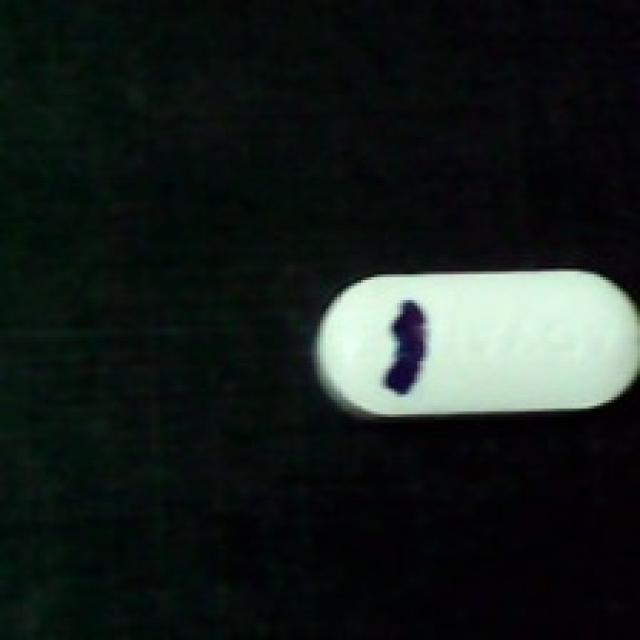defected: (309, 257, 640, 423)
